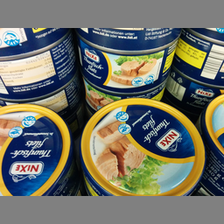fish: (80, 97, 205, 196), (1, 103, 75, 196), (78, 35, 180, 93)
